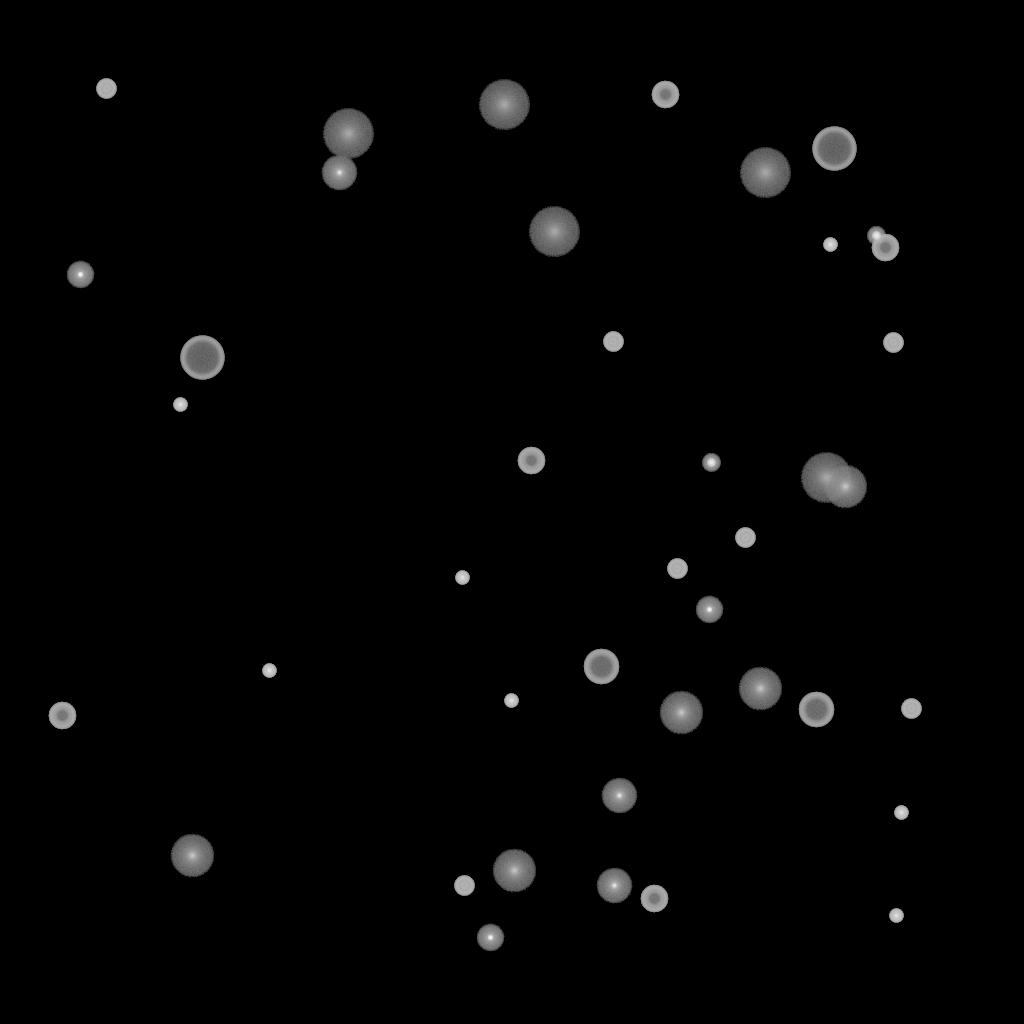depth:-10: (476, 924, 504, 952), (695, 596, 723, 624), (66, 261, 94, 289)
depth:-20: (702, 454, 720, 472), (867, 227, 885, 245)
depth:-30: (455, 571, 469, 585), (894, 806, 908, 820), (823, 238, 837, 252), (504, 694, 518, 708), (889, 909, 903, 923), (262, 664, 276, 678), (173, 398, 187, 412)
depth:-40: (603, 332, 623, 352), (667, 559, 687, 579), (454, 876, 474, 896), (901, 699, 921, 719), (96, 79, 116, 99), (883, 333, 903, 353), (735, 528, 755, 548)
depth:-50: (651, 81, 679, 109), (48, 702, 76, 730), (517, 447, 545, 475), (871, 234, 899, 262), (640, 885, 668, 913)
depth:-60: (798, 692, 834, 728), (583, 649, 619, 685)
depth:-70: (180, 336, 224, 380), (812, 127, 856, 171)
depth:0: (596, 868, 632, 904), (601, 778, 637, 814), (321, 155, 357, 191)
depth:10: (492, 849, 536, 893), (738, 667, 782, 711), (170, 834, 214, 878), (659, 691, 703, 735), (823, 465, 867, 509)
depth:20: (478, 80, 530, 130), (800, 453, 852, 503), (739, 148, 791, 198), (528, 207, 580, 257), (322, 109, 374, 159)
